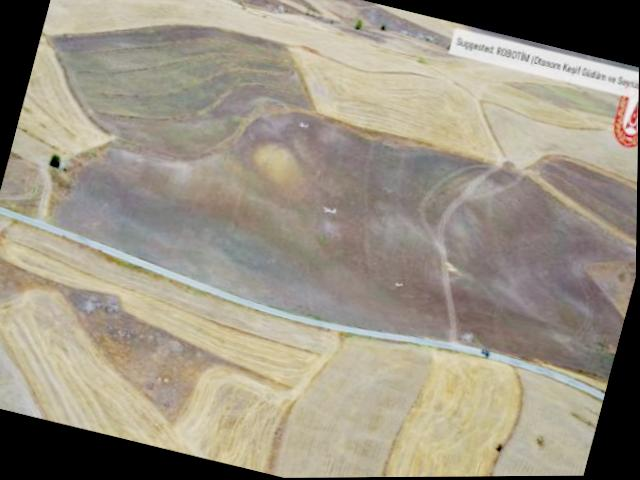uav: (321, 201, 340, 217), (296, 120, 311, 130)
